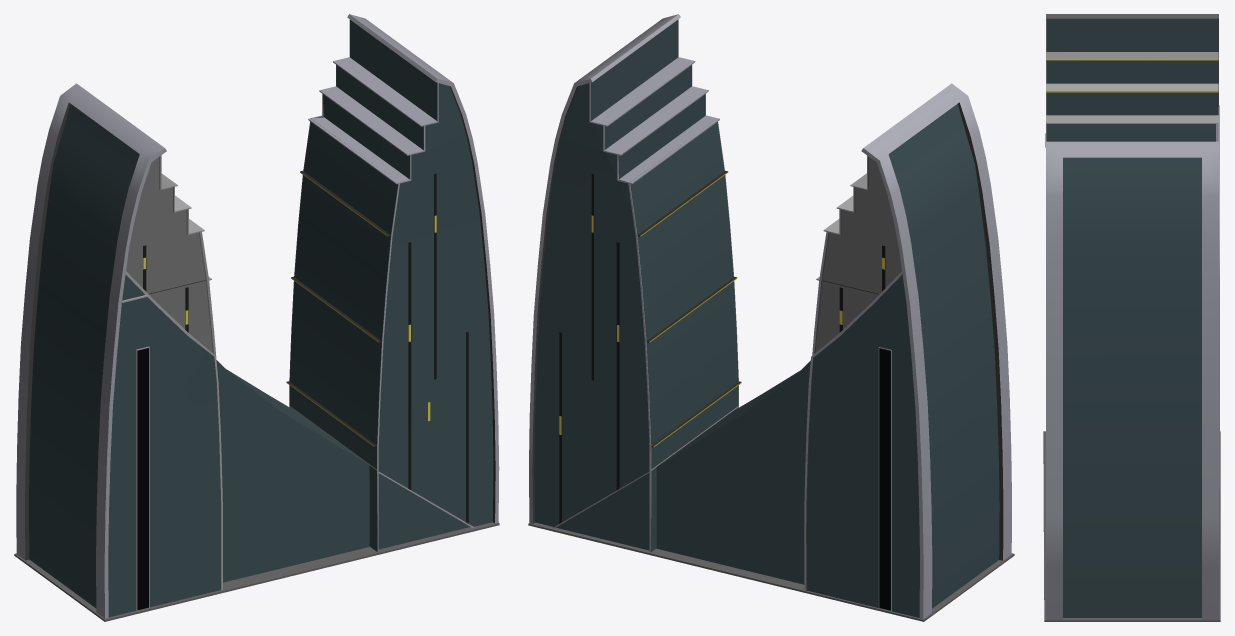
Rendered from Building_Kyowon_002_2st_L3.fbx.
3 renders of one model, left to right at view 1: azimuth 30°, elevation 25°; view 2: azimuth 150°, elevation 25°; view 3: azimuth 270°, elevation 25°, orthographic. The views are drawn at different scales.
Visible parts, largest first — view 1: Building_Kyowon_002_2st_L3; view 2: Building_Kyowon_002_2st_L3; view 3: Building_Kyowon_002_2st_L3.
Boxes of the visible parts, box(x1,y1,x2,y2) form: Building_Kyowon_002_2st_L3: box(14, 14, 499, 621); Building_Kyowon_002_2st_L3: box(528, 14, 1014, 621); Building_Kyowon_002_2st_L3: box(1043, 14, 1220, 621).
Bounding box in the file's own units: 72.48 × 28.73 × 80.75.
